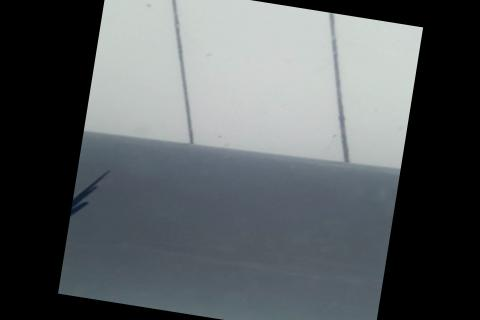keretakan: (67, 161, 114, 234)
